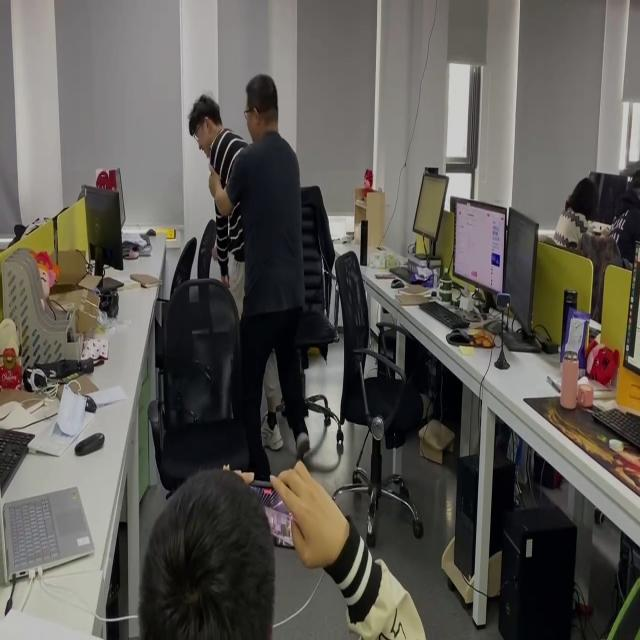fight: (186, 76, 308, 483)
